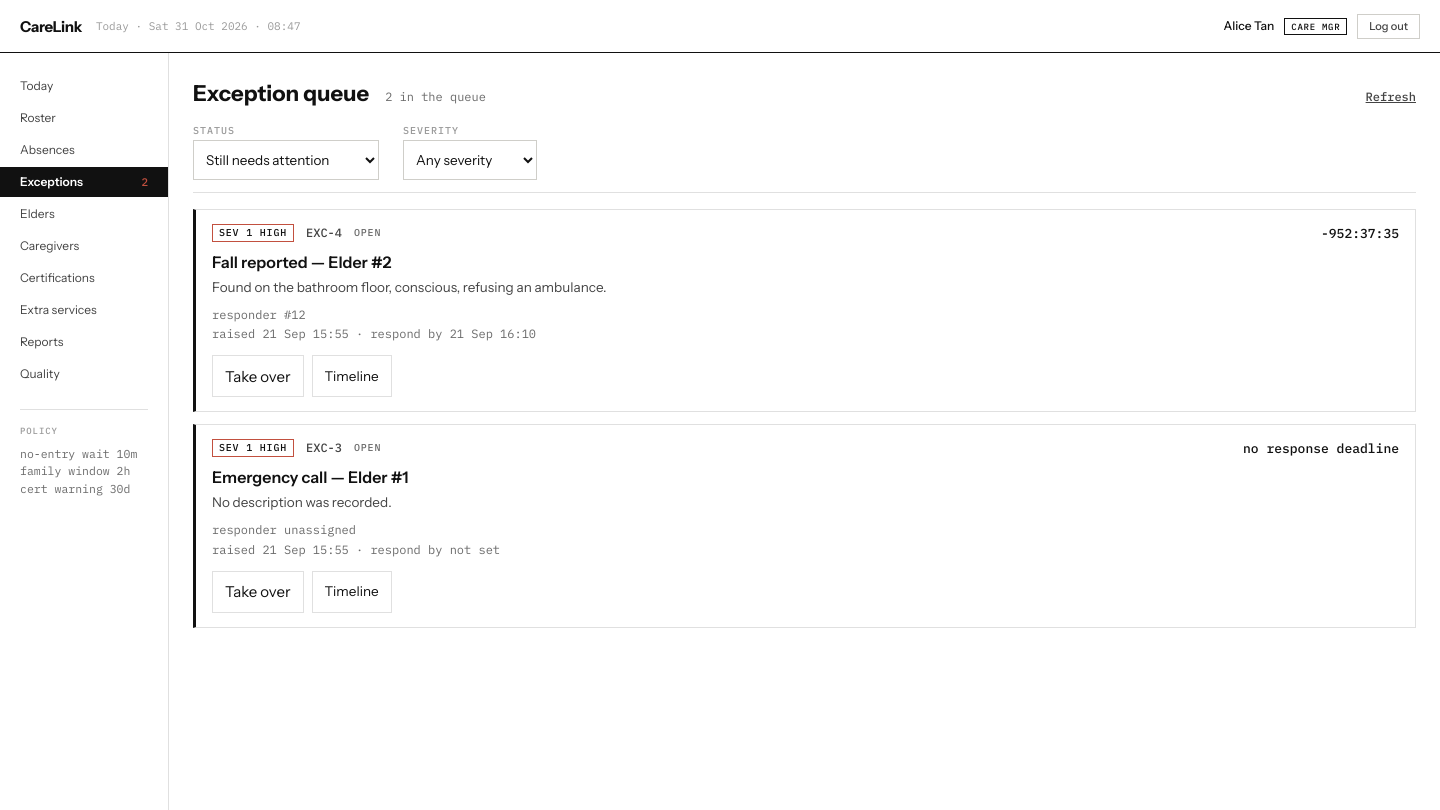
it: the exception queue › takes an incident over from the queue and opens the workbench on it
Click the button "Take over" below "Fall reported": (258, 376) left=212, top=355, right=304, bottom=397
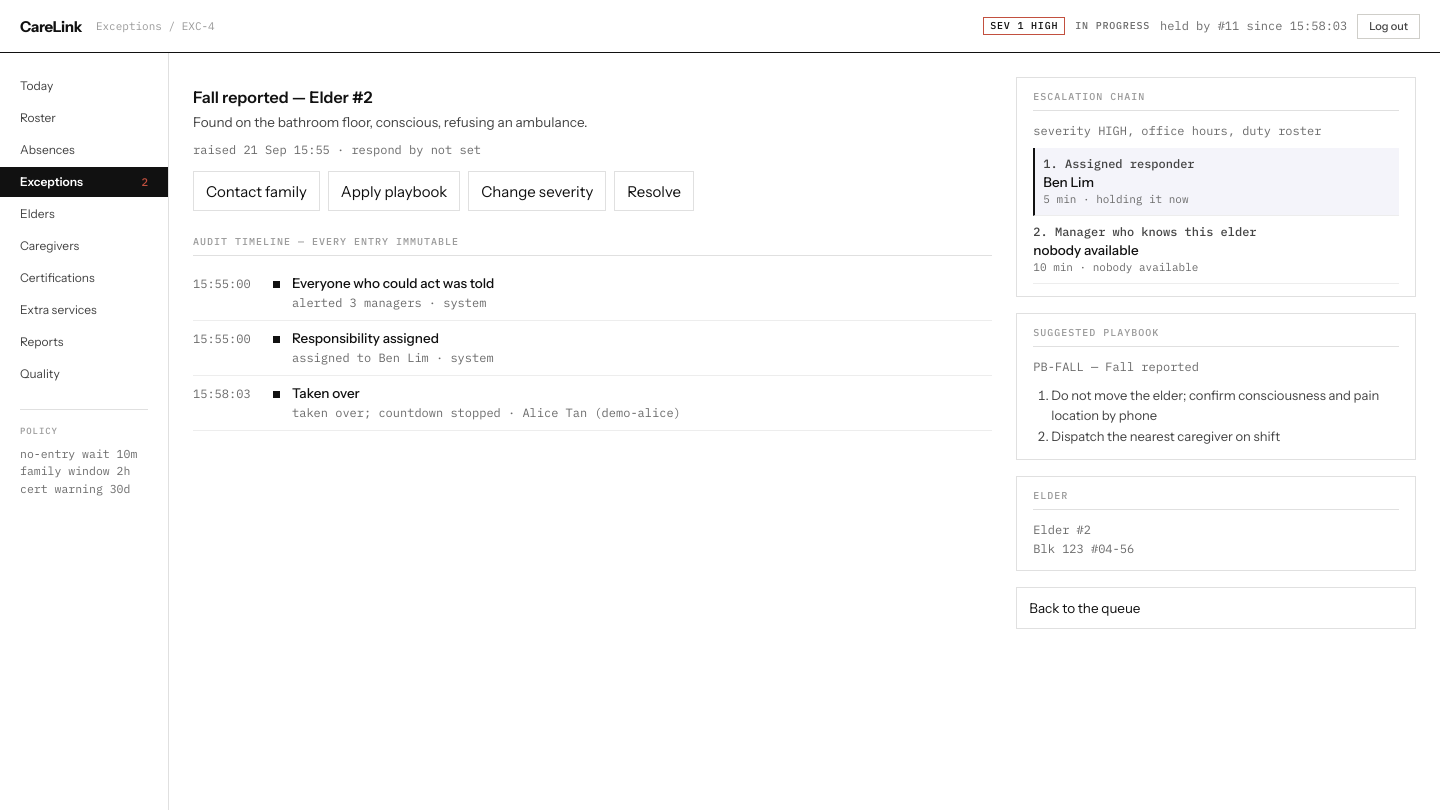
Expected: the heading "Audit timeline — every entry immutable" is shown, left=193, top=235, right=992, bottom=256
Expected: the text "In progress" is shown, left=1075, top=21, right=1150, bottom=31
